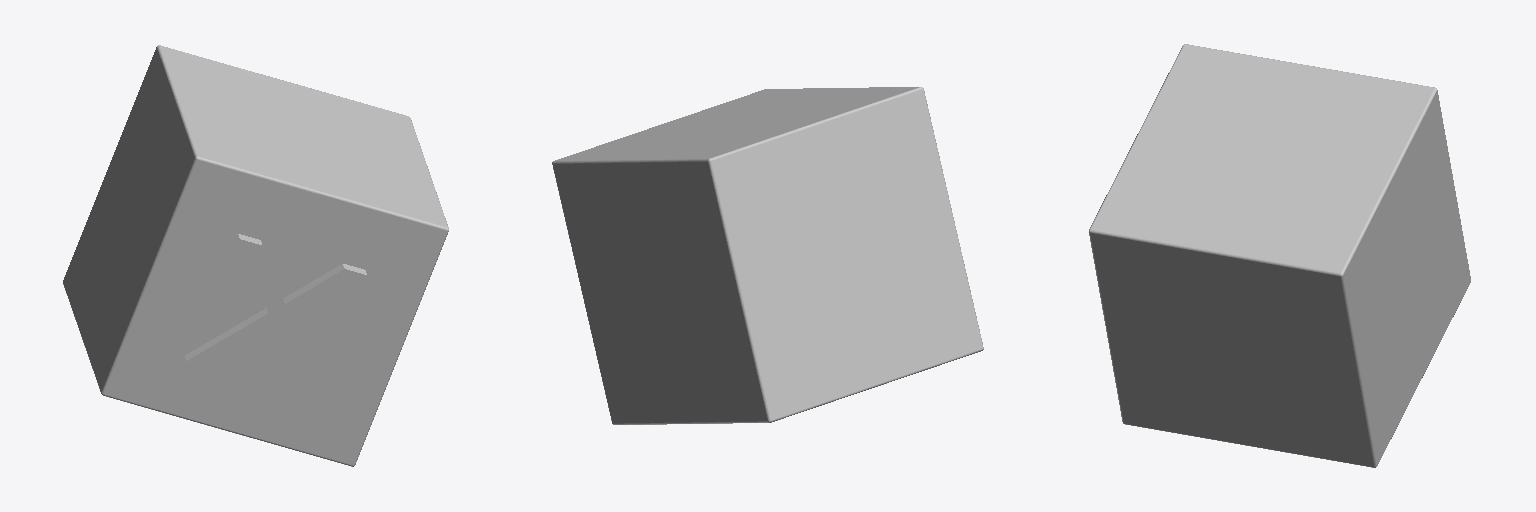
File: blackbox.obj
3 views of the same model, side by side, from view 1: azimuth 30°, elevation 25°; view 2: azimuth 150°, elevation 25°; view 3: azimuth 270°, elevation 25° (orthographic).
Parts seen in each view (by area): view 1: Cube.016_Cube.004, Text.016_Text.002; view 2: Cube.016_Cube.004; view 3: Cube.016_Cube.004.
Boxes of the visible parts, <box> form: Cube.016_Cube.004: <box>63,45,448,466</box>; Text.016_Text.002: <box>185,234,366,399</box>; Cube.016_Cube.004: <box>552,87,983,424</box>; Cube.016_Cube.004: <box>1089,44,1470,467</box>.
Bounding box in the file's own units: 4.24 × 3.51 × 3.8.